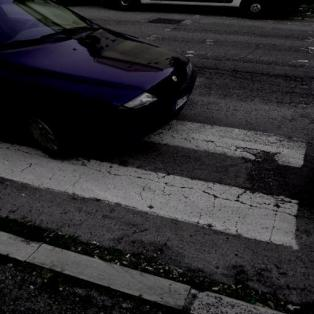Paso de Cebra: (0, 124, 312, 254)
